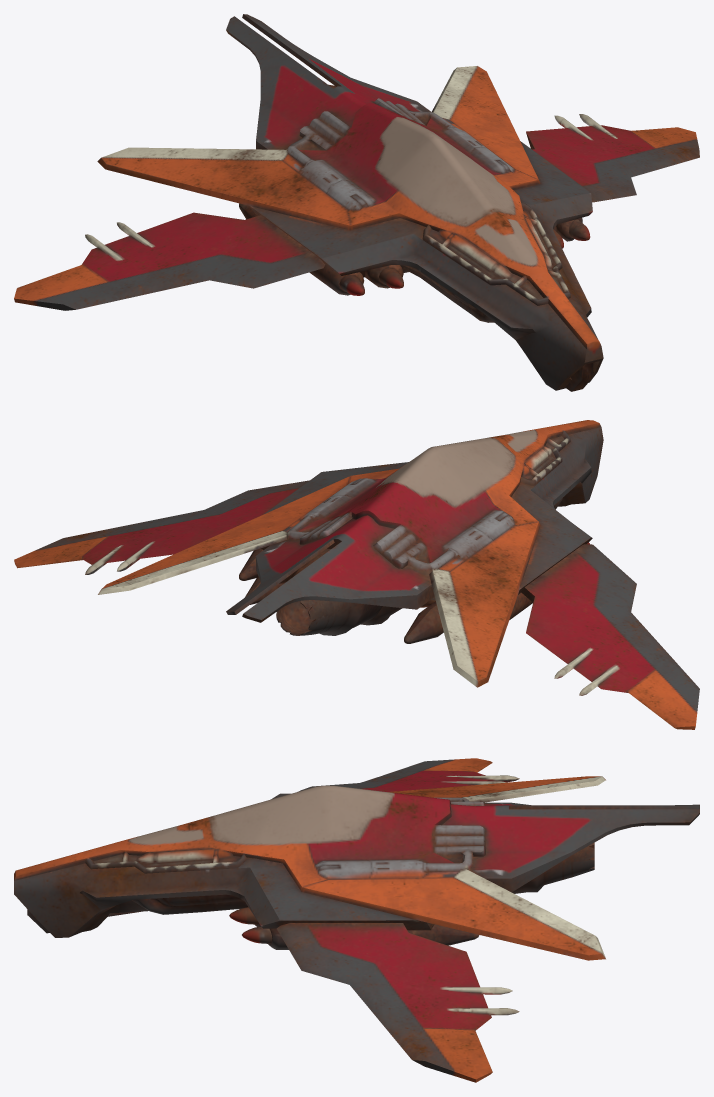
Rendered from Fighter_Complete.fbx.
3 views of the same model, one above another, from view 1: azimuth 30°, elevation 25°; view 2: azimuth 150°, elevation 25°; view 3: azimuth 270°, elevation 25° (orthographic). The views are drawn at different scales.
Parts seen in each view (by area): view 1: FighterShip_Low:Mesh; view 2: FighterShip_Low:Mesh; view 3: FighterShip_Low:Mesh.
Part boxes in pixels (x1,y1,x2,y2): FighterShip_Low:Mesh: [14, 14, 699, 391]; FighterShip_Low:Mesh: [14, 420, 699, 729]; FighterShip_Low:Mesh: [14, 758, 699, 1082].
Size of the model in its own units: 39.37 by 8.25 by 35.53.
